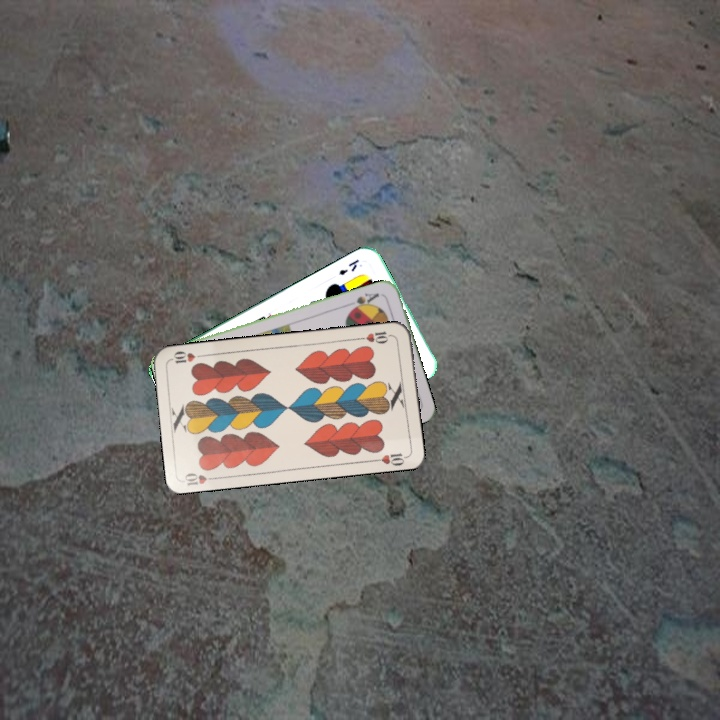EK: (335, 255, 361, 278)
H10: (355, 327, 396, 346), (181, 469, 221, 488)
SA: (347, 288, 382, 314)
